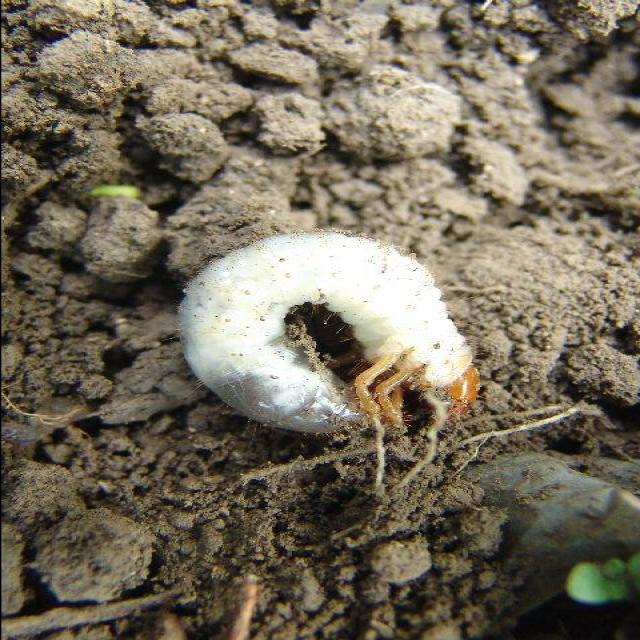grub: (177, 229, 478, 450)
